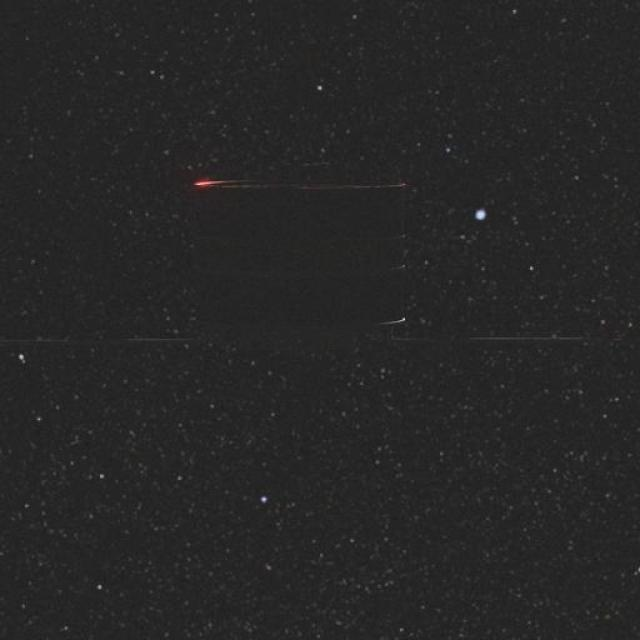double_start: (144, 149, 442, 370)
